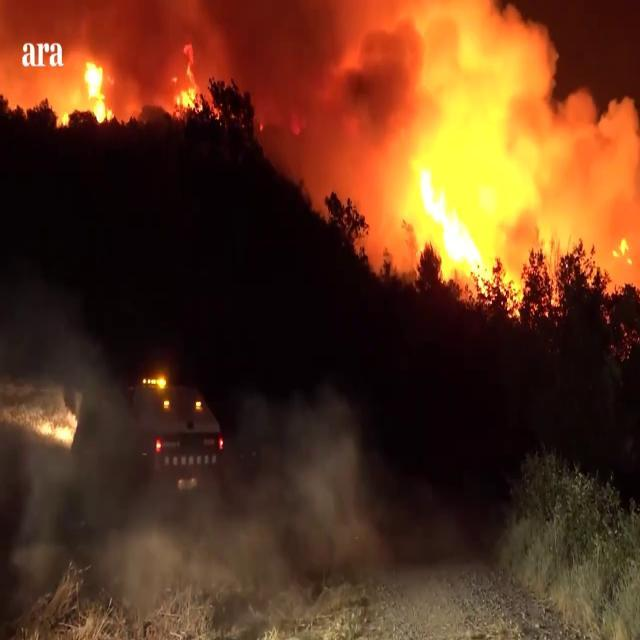Fire: (410, 132, 493, 298), (75, 50, 118, 130), (170, 58, 204, 124)
Smoke: (243, 1, 638, 290), (90, 401, 384, 633), (0, 0, 264, 132)
